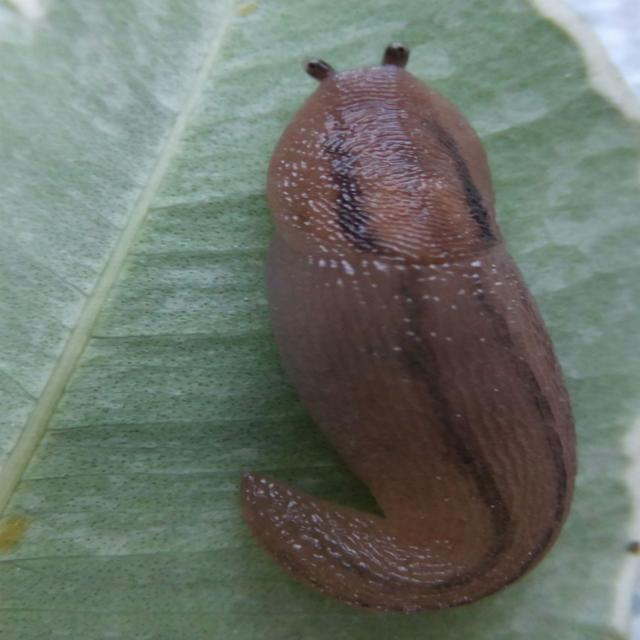slug: (204, 46, 588, 619)
